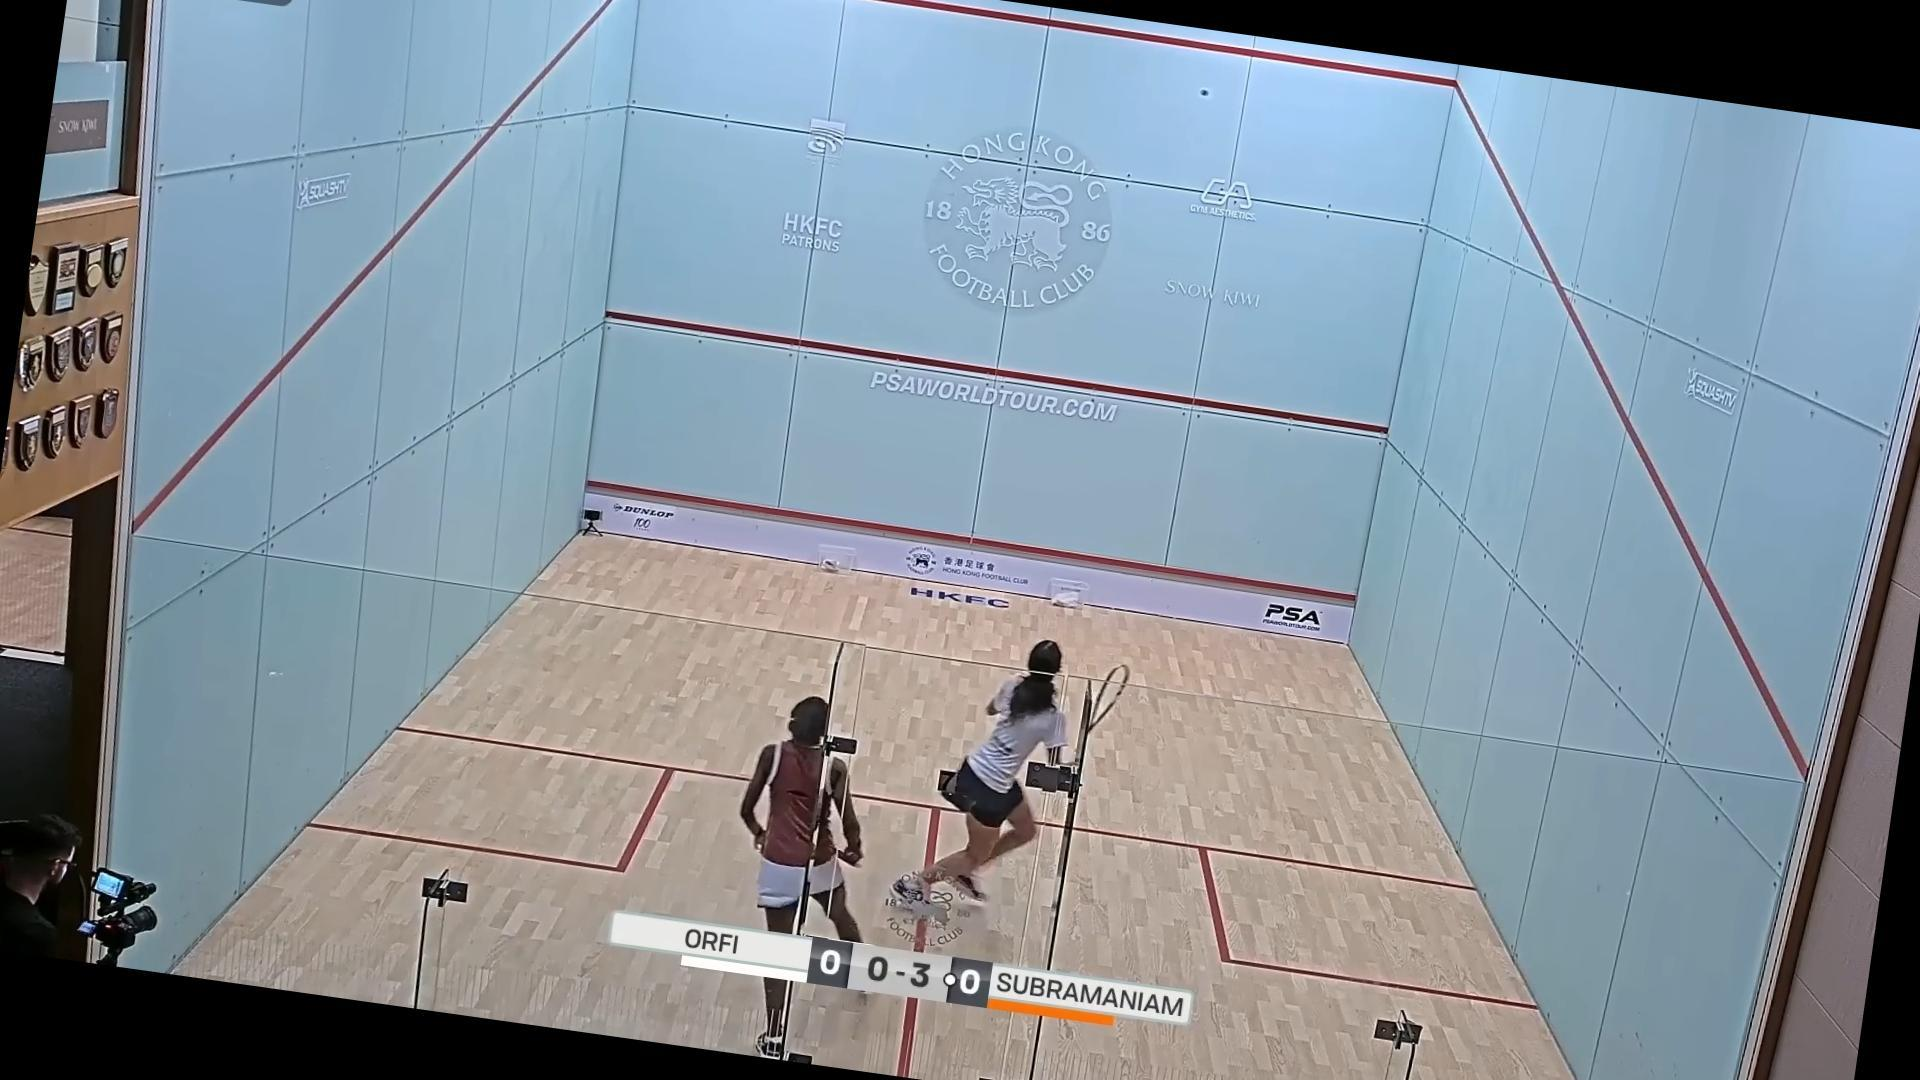Squash-Ball: (1188, 74, 1225, 115)
